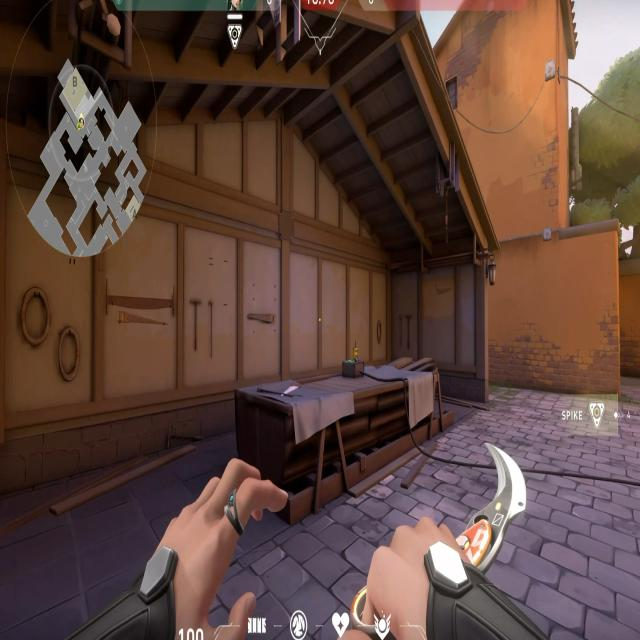B_Garage_Left: (1, 170, 216, 500)
B_Garage_Right: (283, 245, 498, 498)
